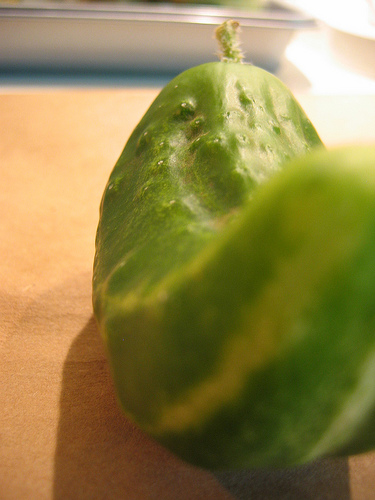cucumber: (90, 20, 373, 481)
